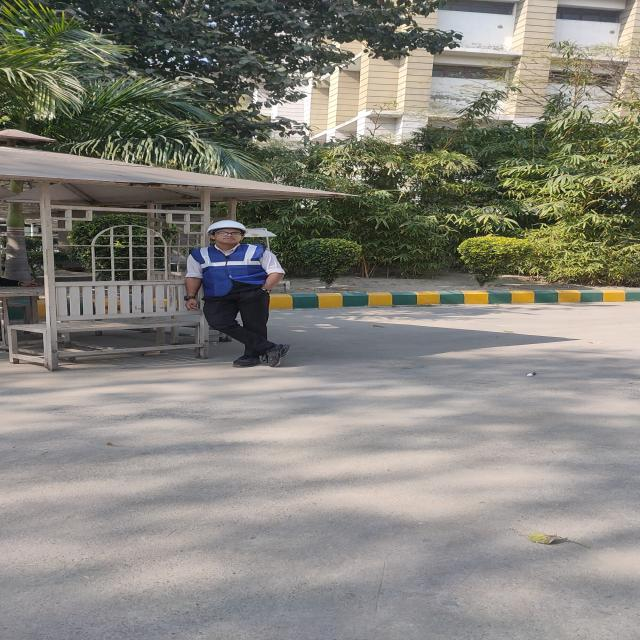safe: (184, 220, 290, 367)
